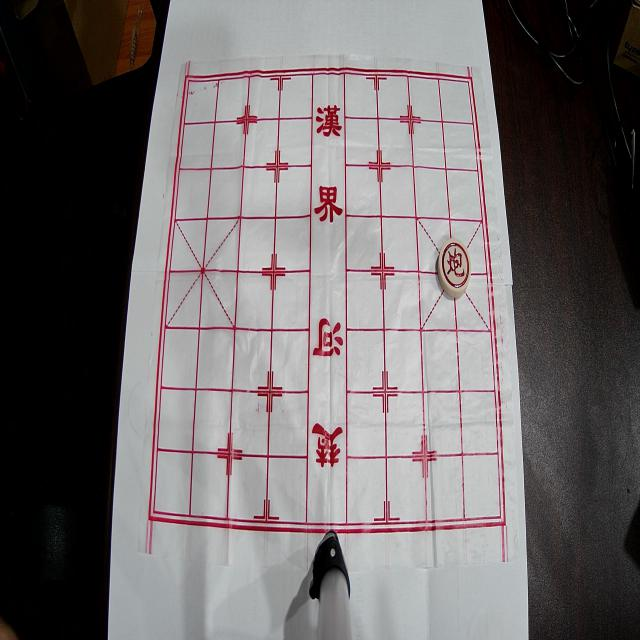red-cannon: (437, 238, 471, 298)
